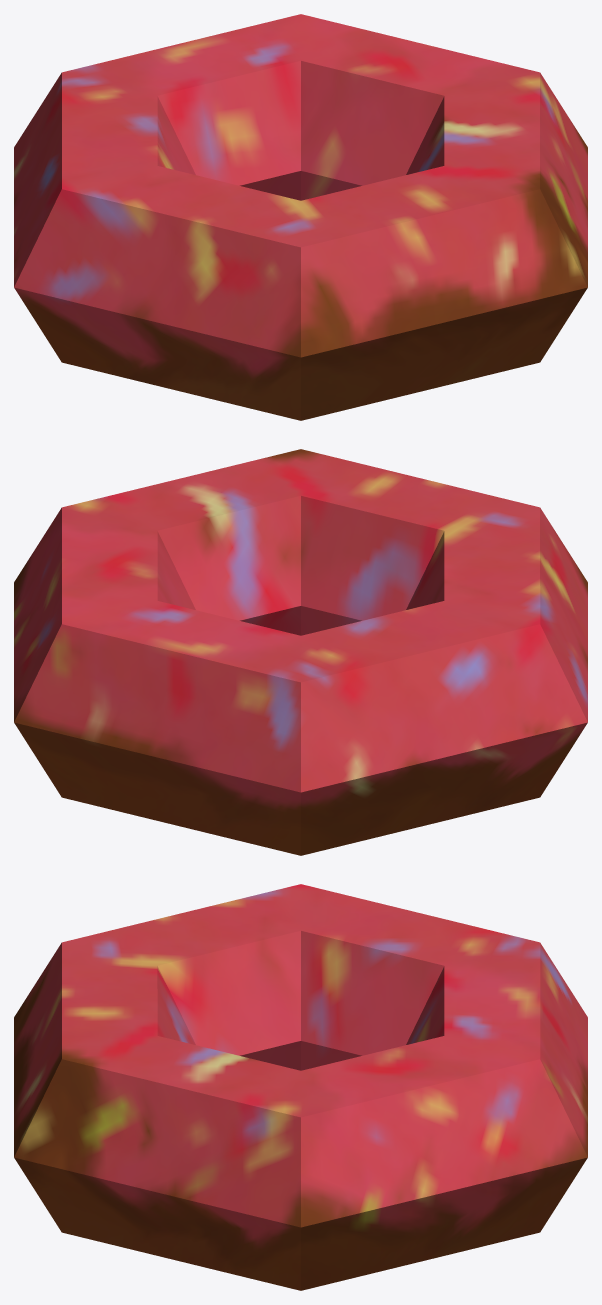
Rendered from Dounut_Double_Extra_Large.fbx.
3 renders of one model, top to bottom at view 1: azimuth 30°, elevation 25°; view 2: azimuth 150°, elevation 25°; view 3: azimuth 270°, elevation 25°, orthographic.
Parts seen in each view (by area): view 1: Cooked_Donut; view 2: Cooked_Donut; view 3: Cooked_Donut.
Part boxes in pixels (box(x1,y1,x2,y2)): Cooked_Donut: box(14, 14, 587, 420); Cooked_Donut: box(14, 449, 587, 855); Cooked_Donut: box(14, 884, 587, 1290).
Bounding box in the file's own units: 83.04 × 23.97 × 71.91.
